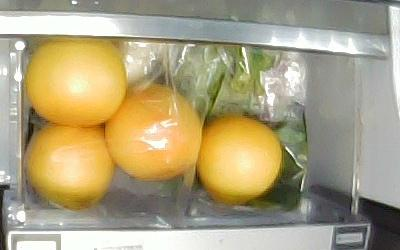grapefruit: (28, 44, 126, 125), (199, 117, 282, 204)
grapefruit_vinyl: (104, 82, 202, 179), (24, 126, 115, 207)
